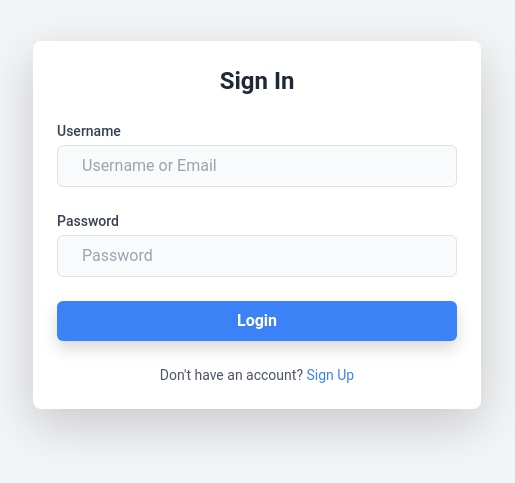
Test: Login Component › shows validation errors when form is submitted empty
Click the button "Login": {"x": 257, "y": 321} [57,301,457,341]
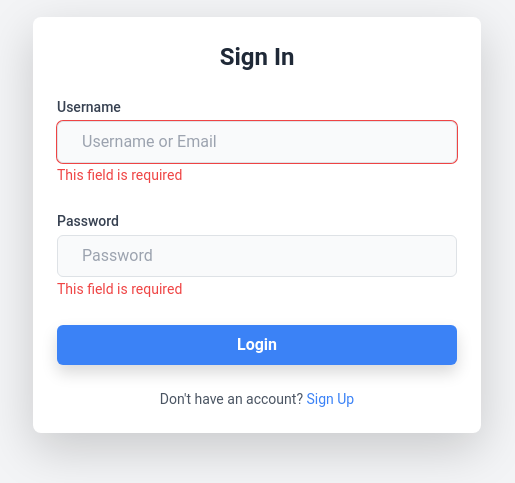
Check: the text "This field is required" is shown 2 times, box [57,167,182,183]; [57,281,182,297]
